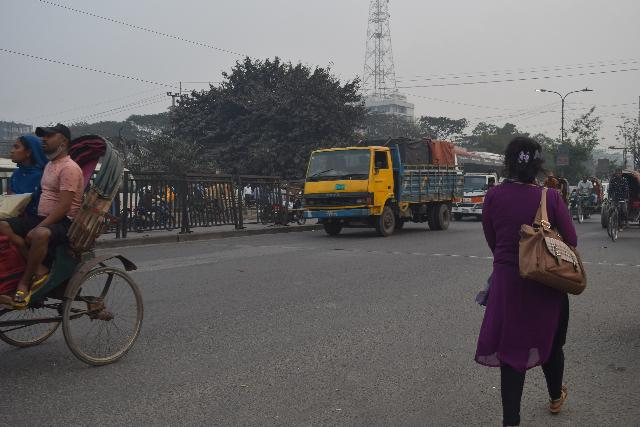truck: (293, 128, 466, 239)
